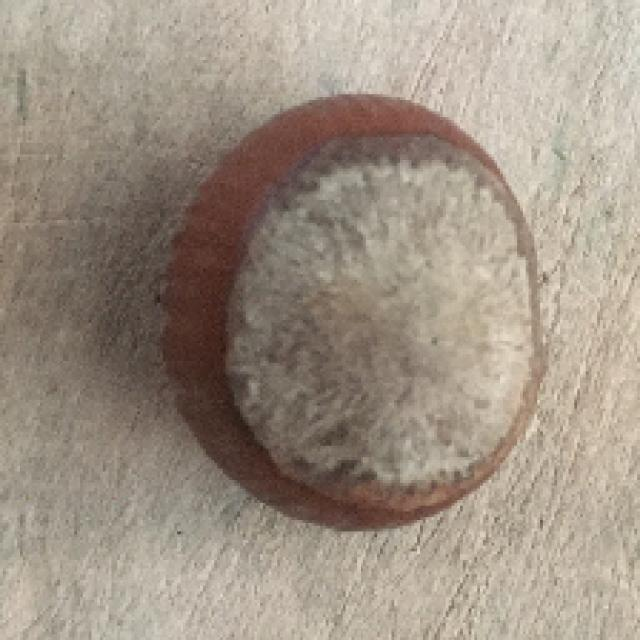QualityHazelnut: (162, 94, 546, 533)
